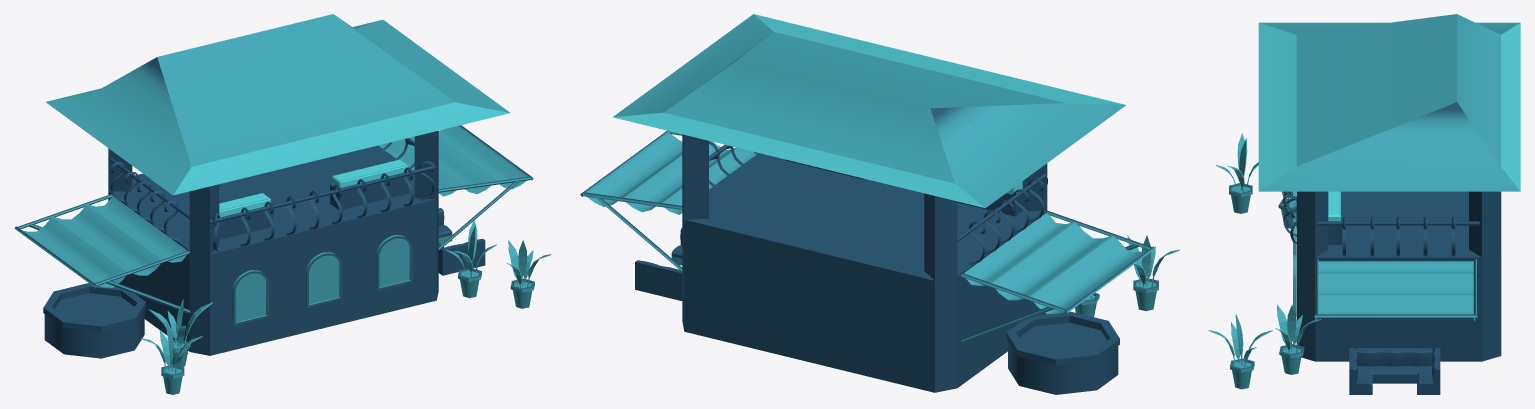
The model's file is Green_Villa_LV3.FBX.
3 renders of one model, left to right at view 1: azimuth 30°, elevation 25°; view 2: azimuth 150°, elevation 25°; view 3: azimuth 270°, elevation 25°, orthographic. The views are drawn at different scales.
Visible parts, largest first — view 1: Green_Villa; view 2: Green_Villa; view 3: Green_Villa.
Boxes of the visible parts, x1,y1,x2,y2 form: Green_Villa: [14, 14, 551, 394]; Green_Villa: [580, 14, 1179, 394]; Green_Villa: [1208, 14, 1520, 394].
Bounding box in the file's own units: 25.24 × 12.99 × 15.11.
